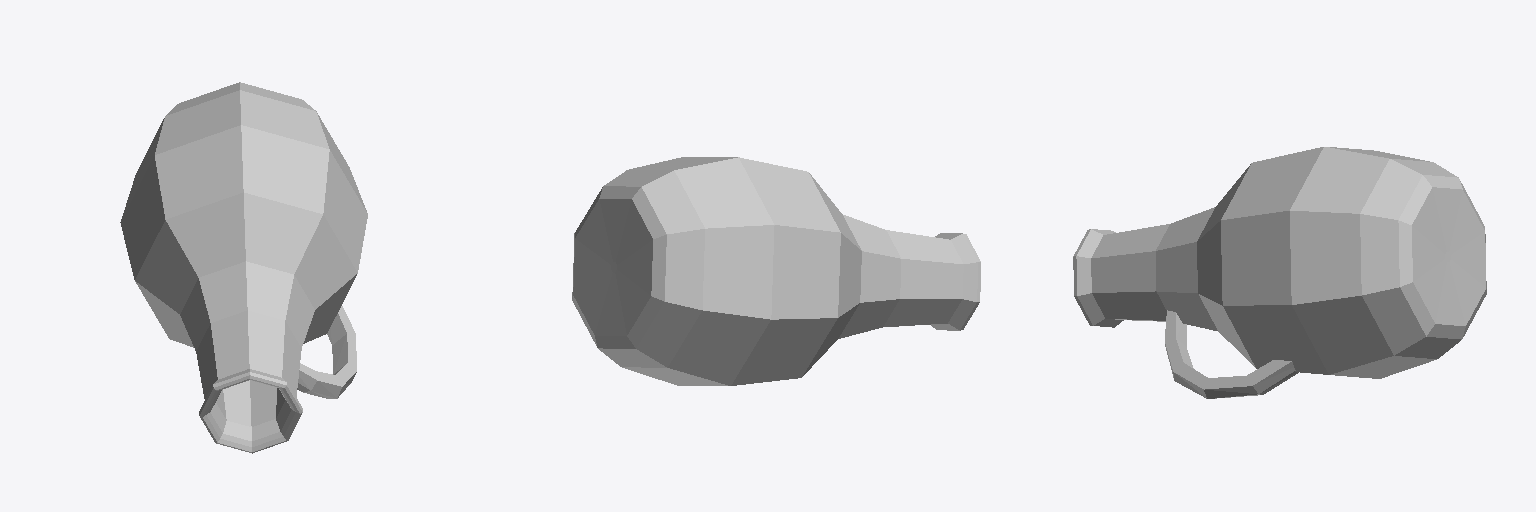
The model's file is vase_5_001.obj.
3 renders of one model, left to right at view 1: azimuth 30°, elevation 25°; view 2: azimuth 150°, elevation 25°; view 3: azimuth 270°, elevation 25°, orthographic.
Parts seen in each view (by area): view 1: vase_5_mug_3.002_Cube.005; view 2: vase_5_mug_3.002_Cube.005; view 3: vase_5_mug_3.002_Cube.005.
Part boxes in pixels (left/top/right/bottom): vase_5_mug_3.002_Cube.005: left=120, top=82, right=367, bottom=453; vase_5_mug_3.002_Cube.005: left=572, top=157, right=980, bottom=385; vase_5_mug_3.002_Cube.005: left=1073, top=147, right=1486, bottom=398.
Size of the model in its own units: 0.6054 by 0.5008 by 0.8067.